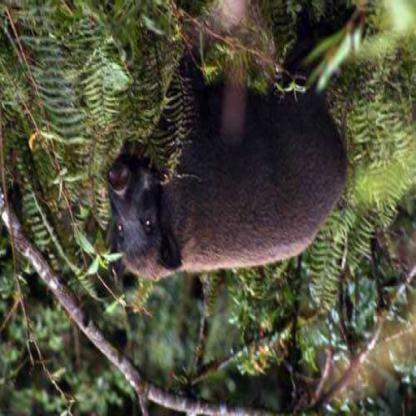boar: (102, 56, 374, 320)
